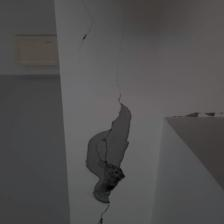Medium: (75, 87, 138, 204)
